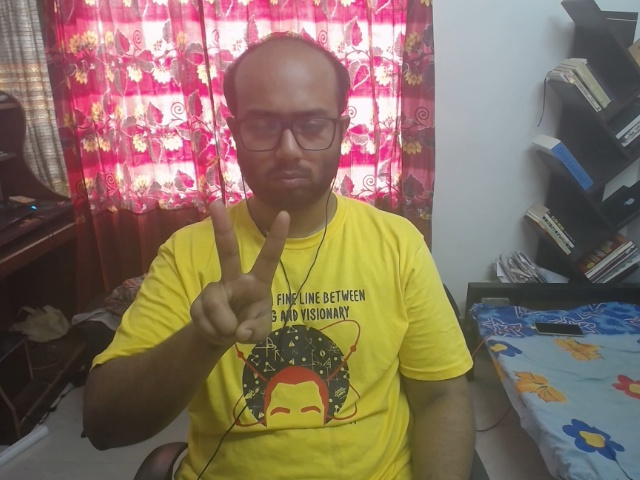two: (173, 185, 308, 357)
